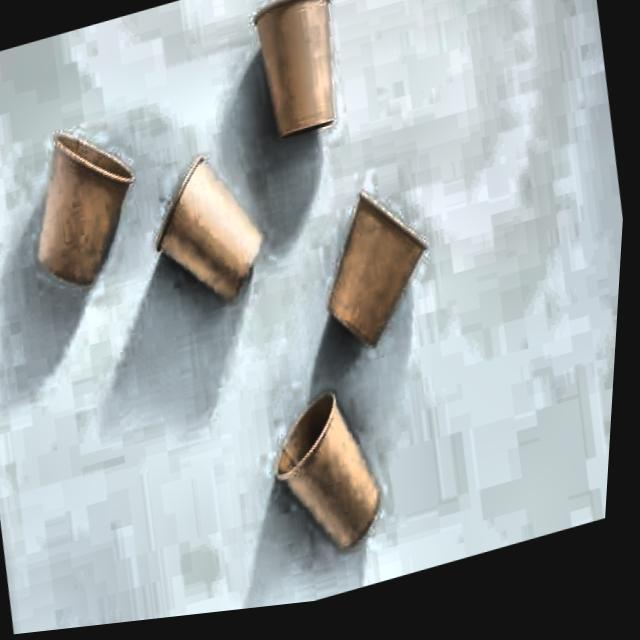Cup: (294, 177, 460, 404), (137, 125, 291, 362), (247, 371, 411, 593), (23, 107, 161, 336), (237, 0, 368, 186)
